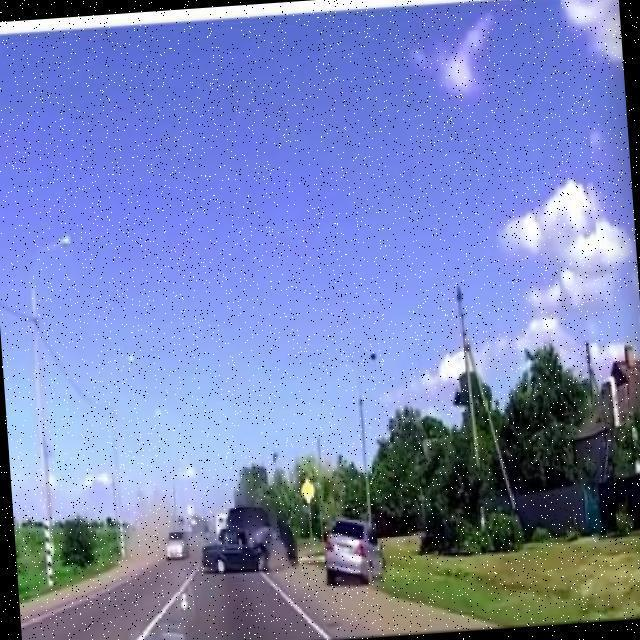accident: (195, 497, 301, 581)
